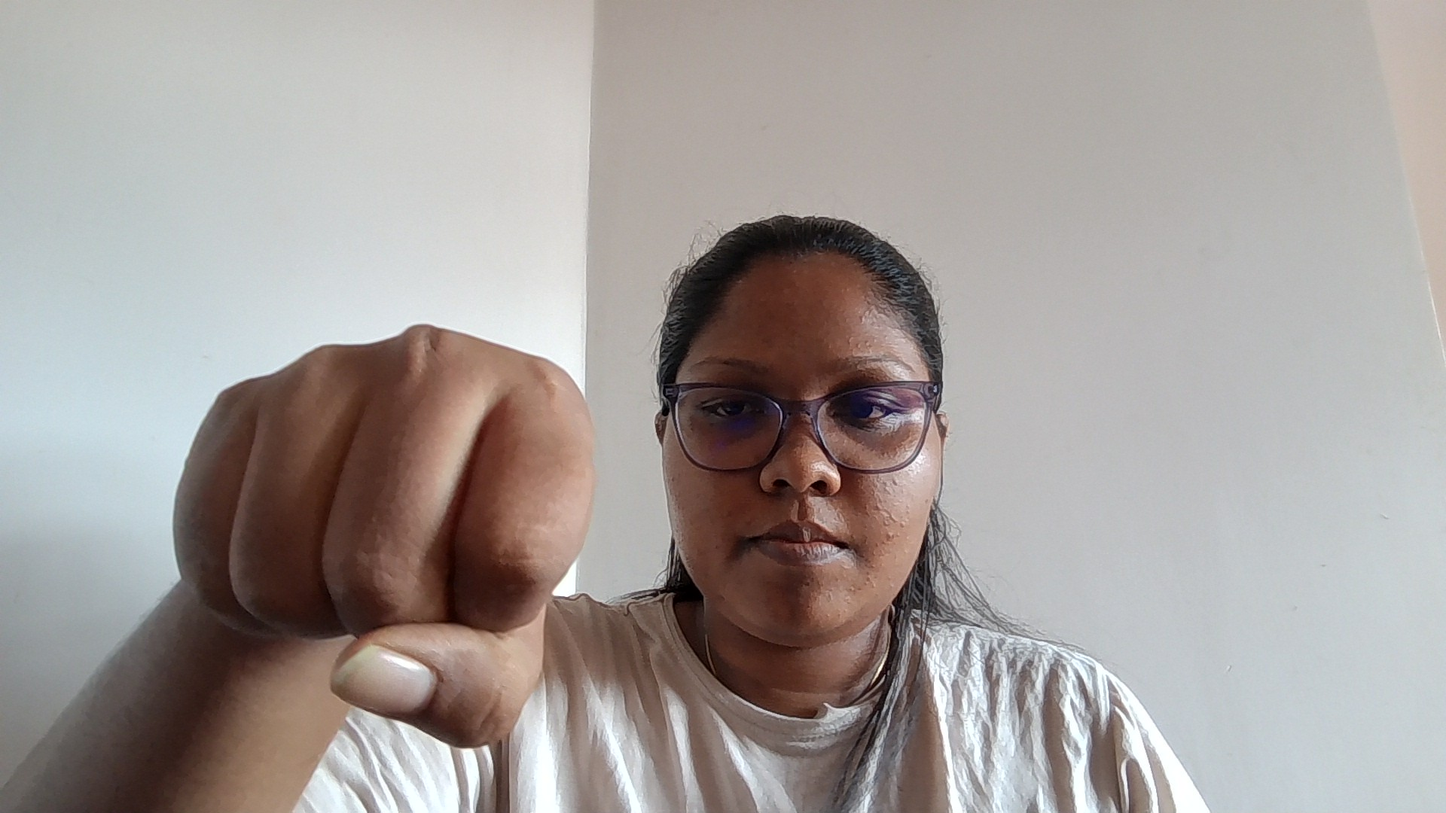Yes: (139, 262, 618, 785)
